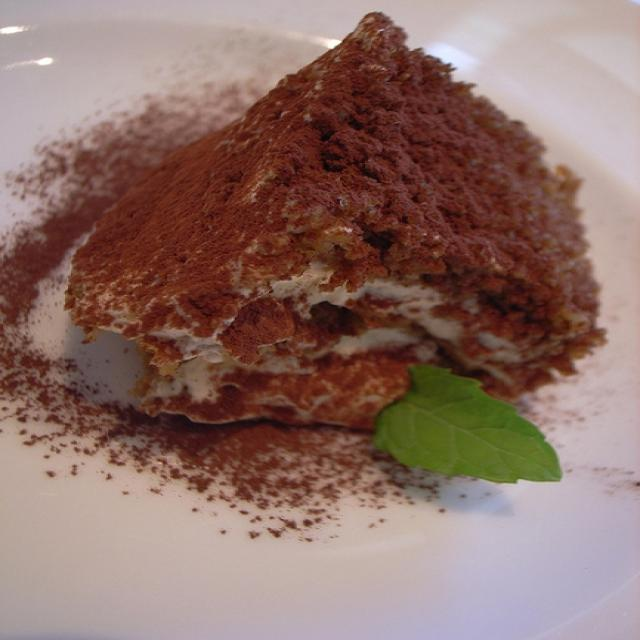蛋糕甜品: (18, 18, 625, 570)
